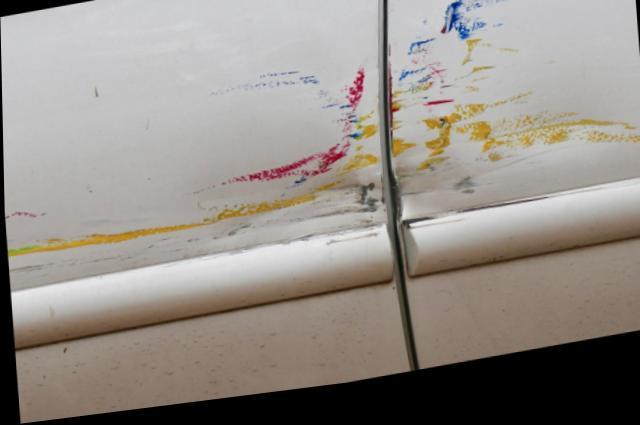scratch: (4, 69, 383, 287), (379, 0, 640, 235)
